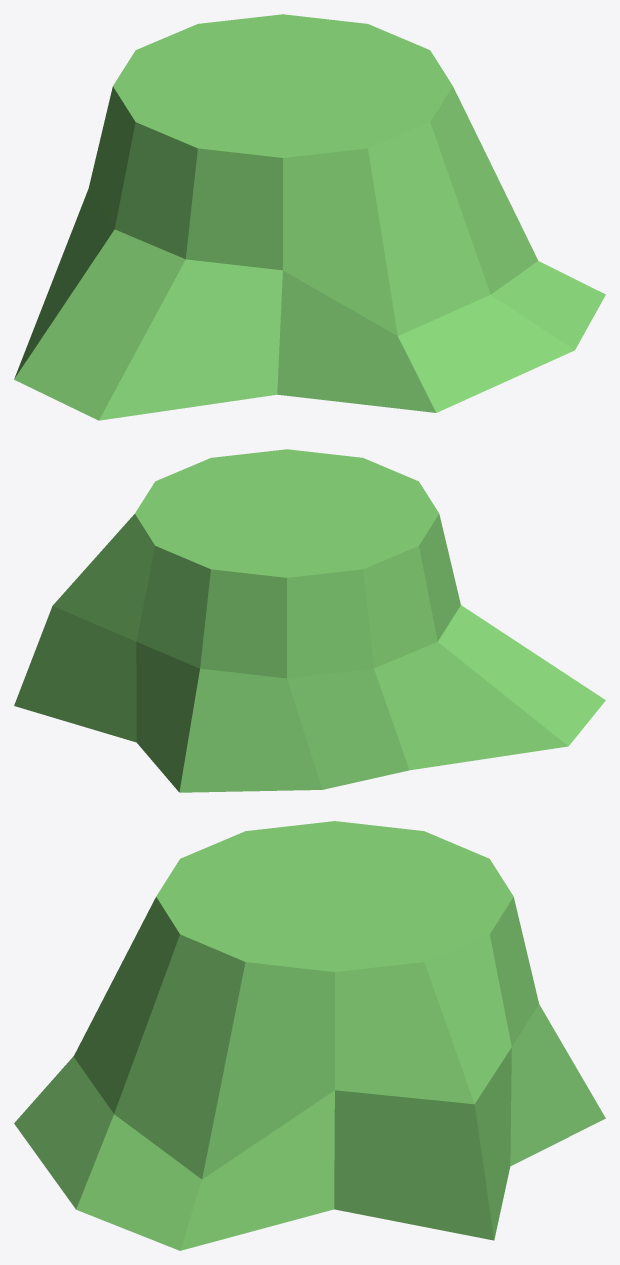
The picture shows the model from 3 angles, top to bottom: view 1: azimuth 30°, elevation 25°; view 2: azimuth 150°, elevation 25°; view 3: azimuth 270°, elevation 25°; orthographic projection. The views are drawn at different scales.
Visible parts, largest first — view 1: root; view 2: root; view 3: root.
Boxes of the visible parts, x1,y1,x2,y2 form: root: [14, 14, 605, 420]; root: [14, 449, 605, 792]; root: [14, 821, 605, 1250].
Size of the model in its own units: 276 by 105 by 249.
